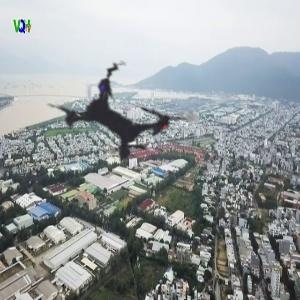drone: (10, 6, 234, 230)
